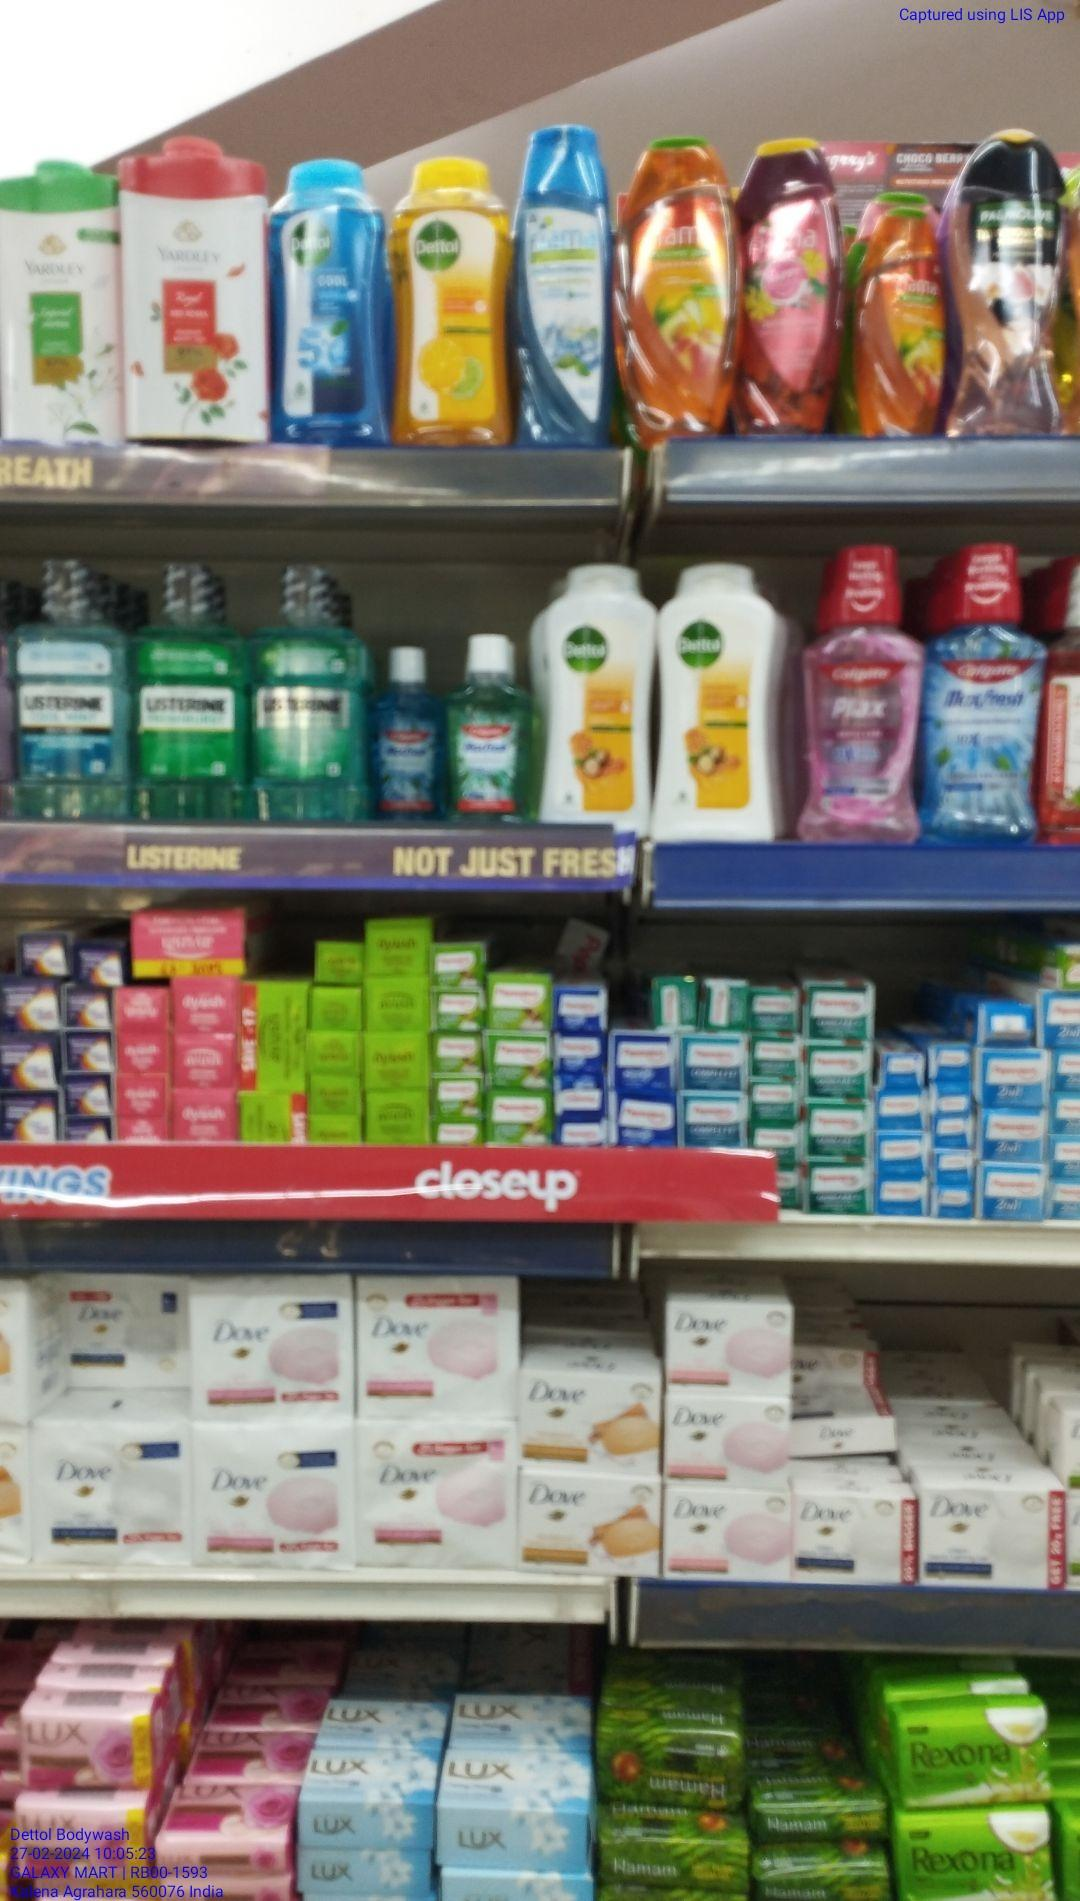Dettol_Bodywash_Cool: (272, 151, 387, 449)
Dettol_Bodywash_Refresh: (390, 159, 511, 448)
Dettol_Nourish_Body_Wash_250ML: (658, 554, 763, 845), (545, 564, 652, 842)
Fiama_Shower_Gel_Peach_and_Avocado_250ML: (622, 128, 740, 448), (859, 212, 942, 437)
Palmolive_Luminous_Oils_With_White_Orchid_Shower_Gel_250ML: (956, 133, 1071, 443)
